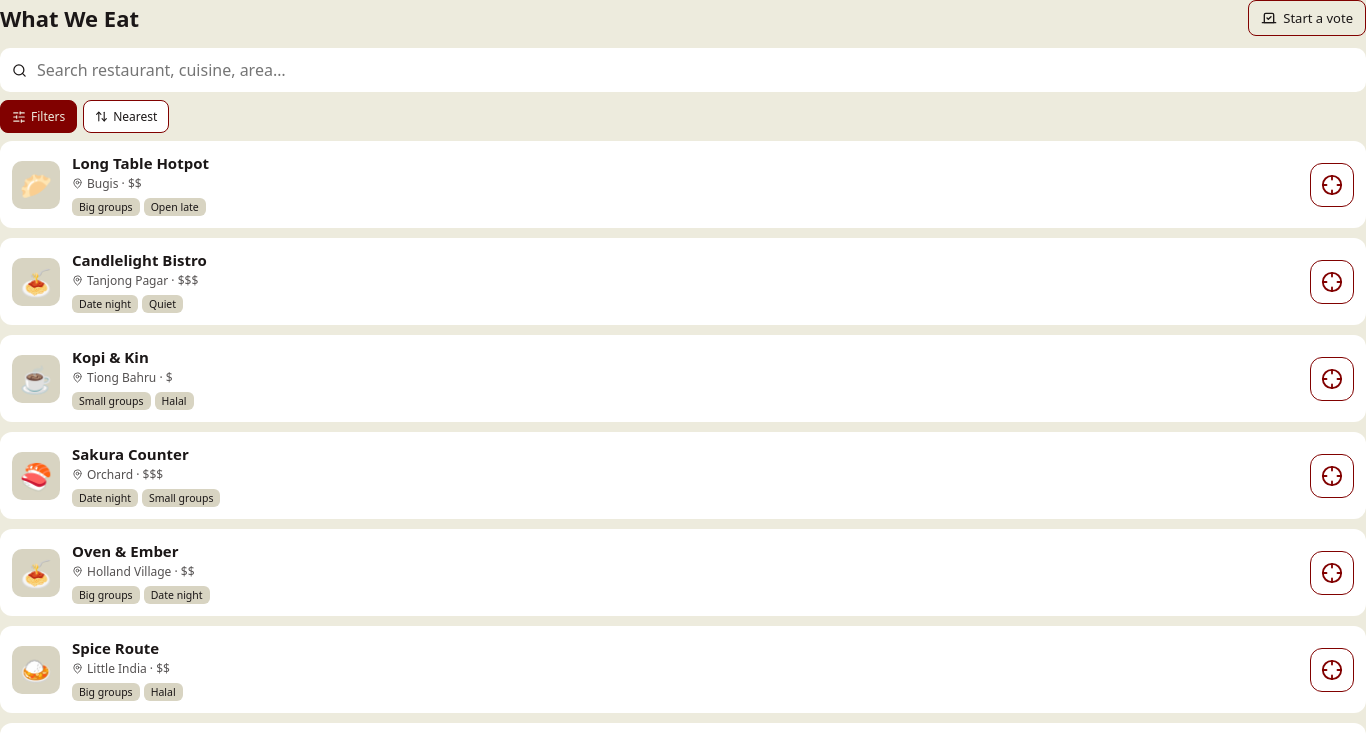
it: removing an active tag updates the list
The image size is (1366, 736).
Expected: the link "Long Table Hotpot" is shown, [72,153,209,173]
Click the button "Filters": point(39, 116) [0,100,77,133]
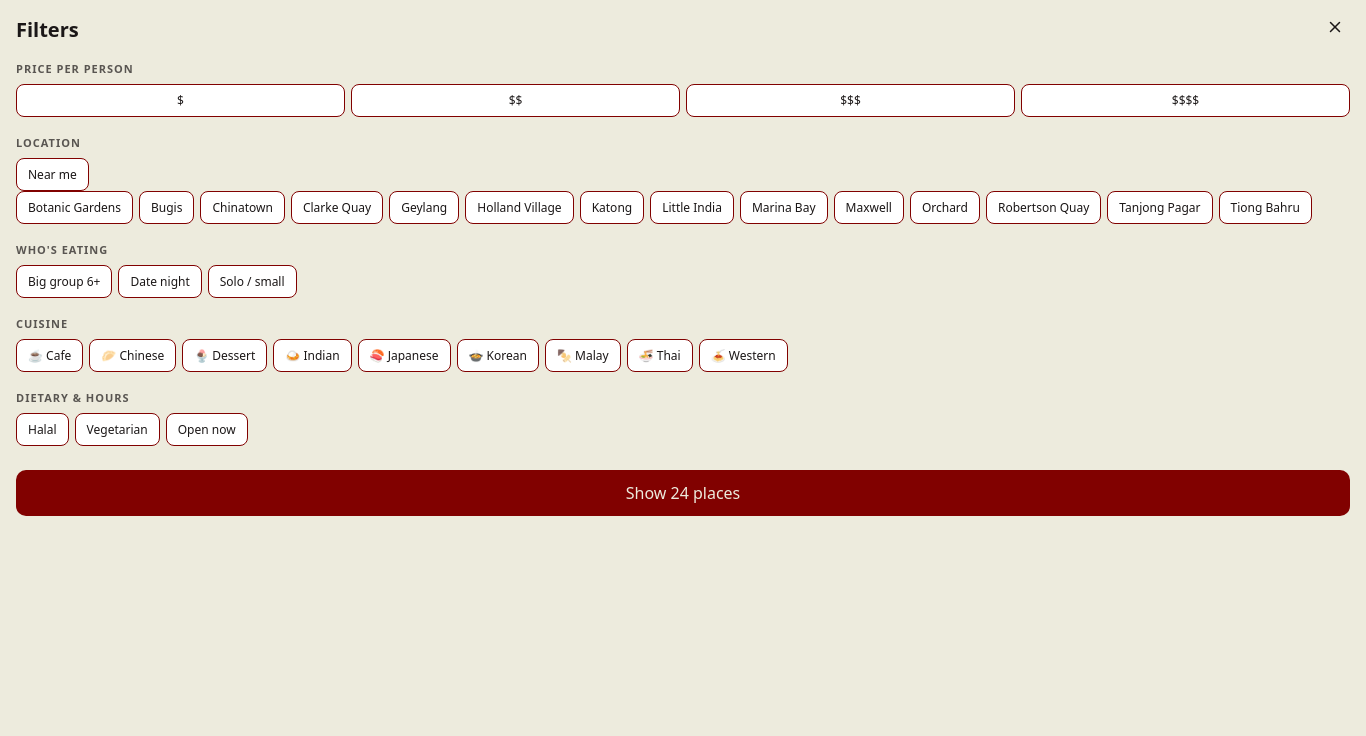
Click the button "$$$$": point(1186, 100) [1021,84,1350,117]
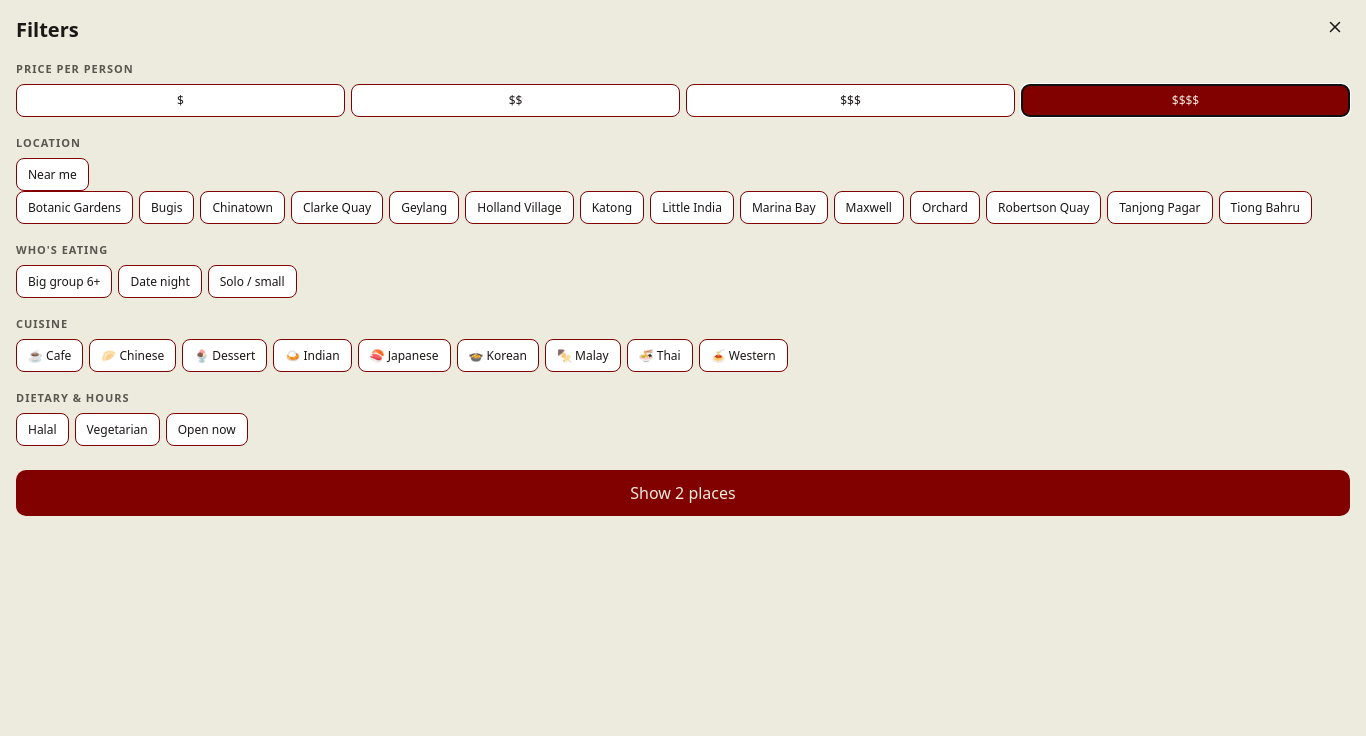
Click the button "Show 2 places": point(683, 493) [16,470,1350,516]
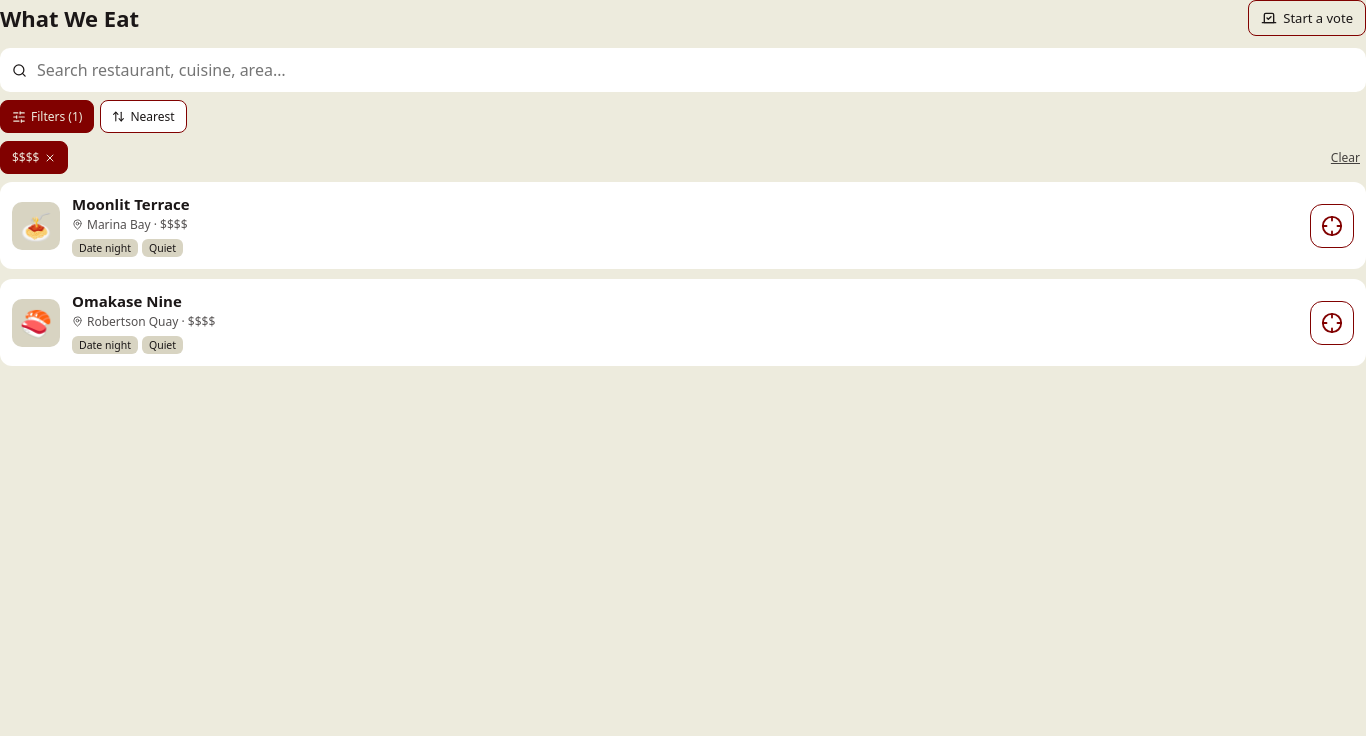
Expected: the link "Long Table Hotpot" is not shown
Click the button named "Remove filter $$$$": point(34, 158) [0,141,68,174]
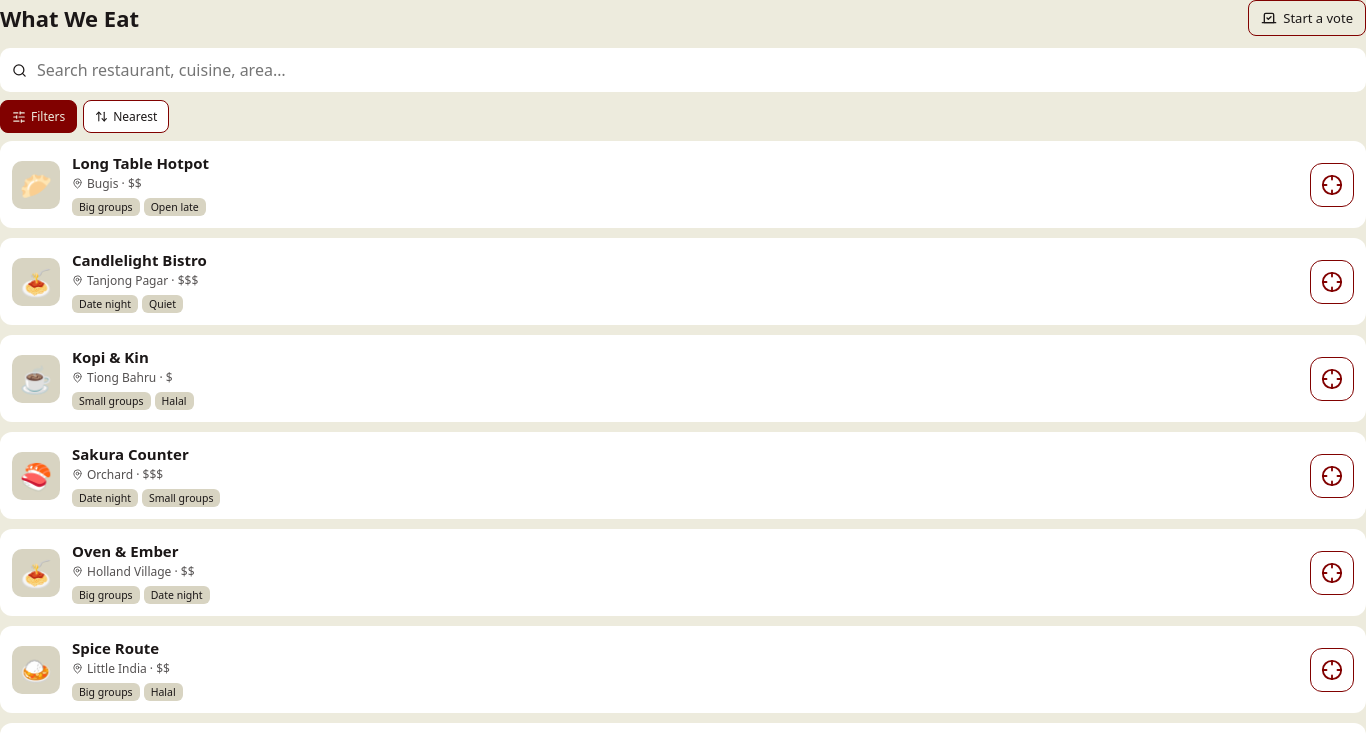
Now the link "Long Table Hotpot" is shown, box [72,153,209,173]
